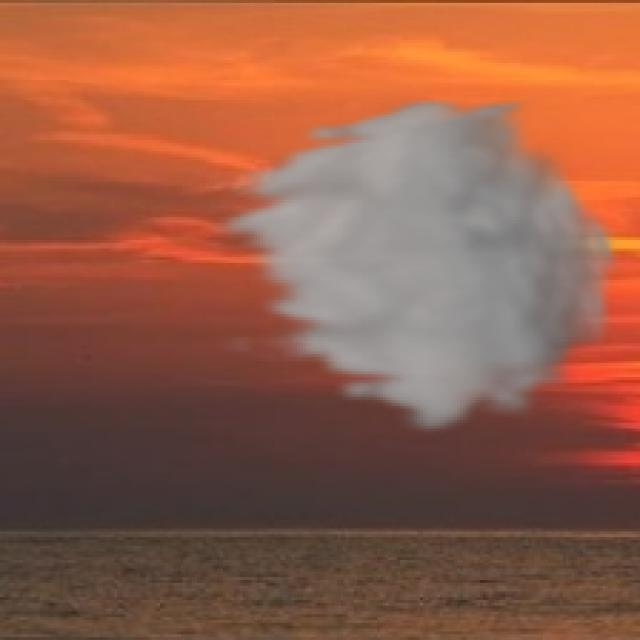smoke: (203, 94, 626, 437)
